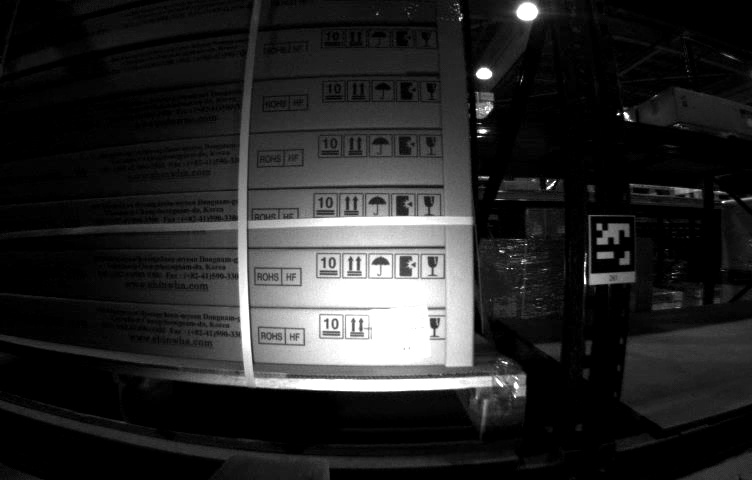True Barcode: (373, 308, 429, 348)
